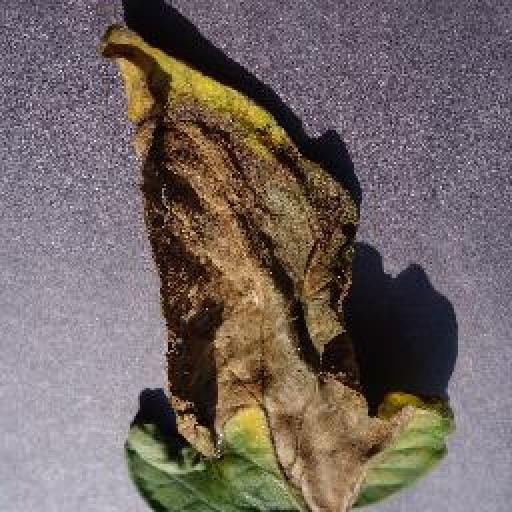Late Blight: (98, 20, 454, 512)
